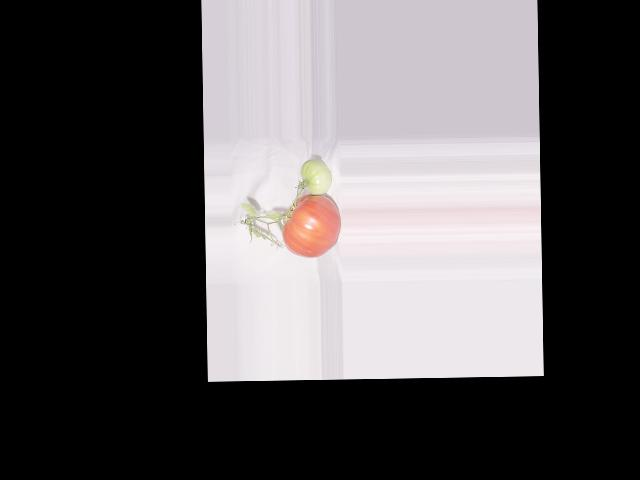tomato: (281, 193, 341, 258)
